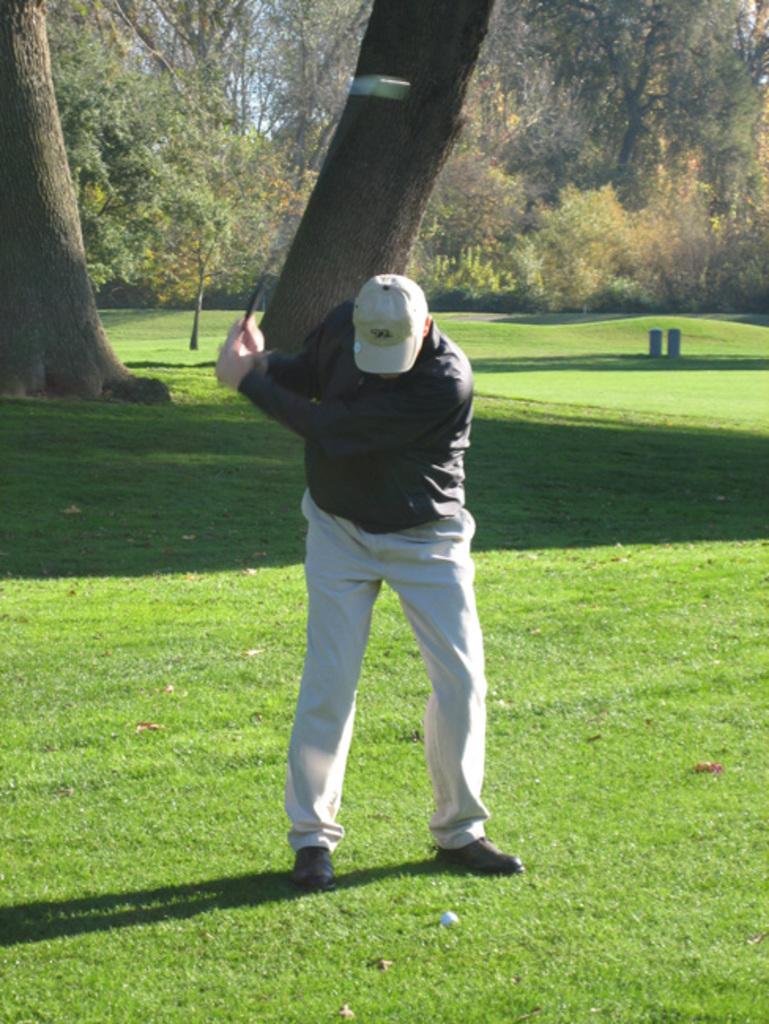Tree: (0, 0, 769, 405)
